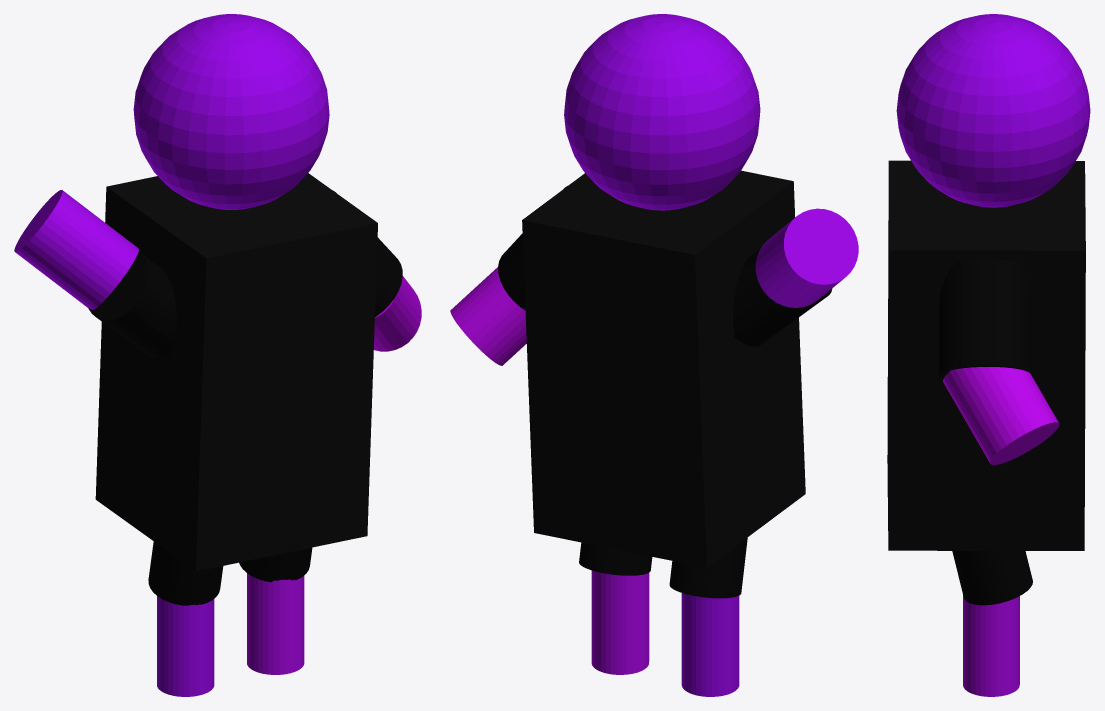
File: Trey Character Model.fbx
3 views of the same model, side by side, from view 1: azimuth 30°, elevation 25°; view 2: azimuth 150°, elevation 25°; view 3: azimuth 270°, elevation 25° (orthographic).
Parts seen in each view (by area): view 1: Cube, Sphere, Cylinder.004, Cylinder.009, Cylinder.005, Cylinder.006, Cylinder.007, Cylinder.001, Cylinder.008, Cylinder; view 2: Cube, Sphere, Cylinder.004, Cylinder.009, Cylinder.006, Cylinder.001, Cylinder.005, Cylinder.007, Cylinder.008, Cylinder; view 3: Cube, Sphere, Cylinder, Cylinder.001, Cylinder.009, Cylinder.008.
Boxes of the visible parts, x1,y1,x2,y2 form: Cube: [95, 173, 377, 571]; Sphere: [133, 14, 329, 209]; Cylinder.004: [14, 190, 138, 309]; Cylinder.009: [247, 573, 304, 674]; Cylinder.005: [88, 252, 176, 358]; Cylinder.006: [157, 596, 214, 696]; Cylinder.007: [148, 541, 223, 605]; Cylinder.001: [373, 276, 421, 351]; Cylinder.008: [239, 547, 312, 582]; Cylinder: [333, 190, 402, 316]; Cube: [522, 170, 805, 567]; Sphere: [564, 14, 760, 210]; Cylinder.004: [755, 208, 858, 307]; Cylinder.009: [591, 570, 649, 674]; Cylinder.006: [681, 593, 739, 696]; Cylinder.001: [450, 267, 526, 365]; Cylinder.005: [733, 248, 832, 346]; Cylinder.007: [669, 537, 747, 598]; Cylinder.008: [579, 542, 652, 575]; Cylinder: [498, 186, 567, 310]; Cube: [887, 160, 1085, 550]; Sphere: [896, 14, 1090, 207]; Cylinder: [938, 259, 1032, 379]; Cylinder.001: [943, 367, 1059, 465]; Cylinder.009: [963, 595, 1019, 696]; Cylinder.008: [952, 551, 1032, 605].
Bounding box in the file's own units: 158 × 247 × 70.8.
